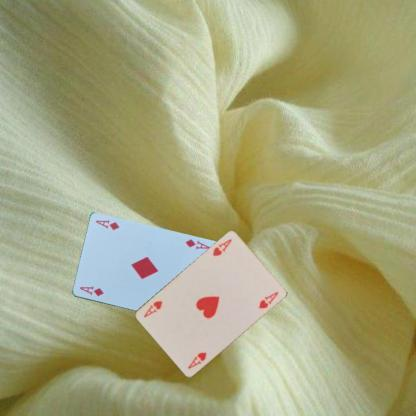Ad: (76, 284, 104, 298), (182, 237, 210, 251)
Ah: (210, 236, 233, 258), (185, 350, 208, 370)
